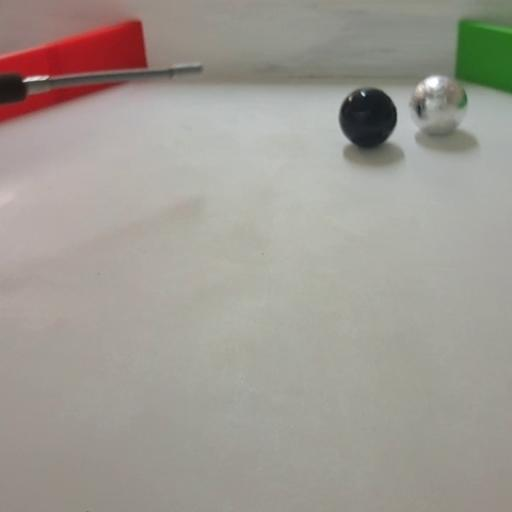alive: (408, 75, 468, 136)
dead: (337, 86, 399, 149)
